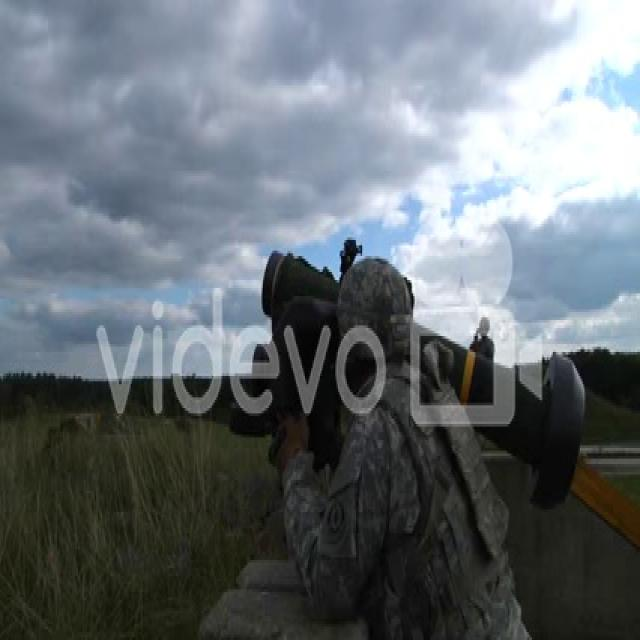bazooka: (262, 243, 596, 517)
